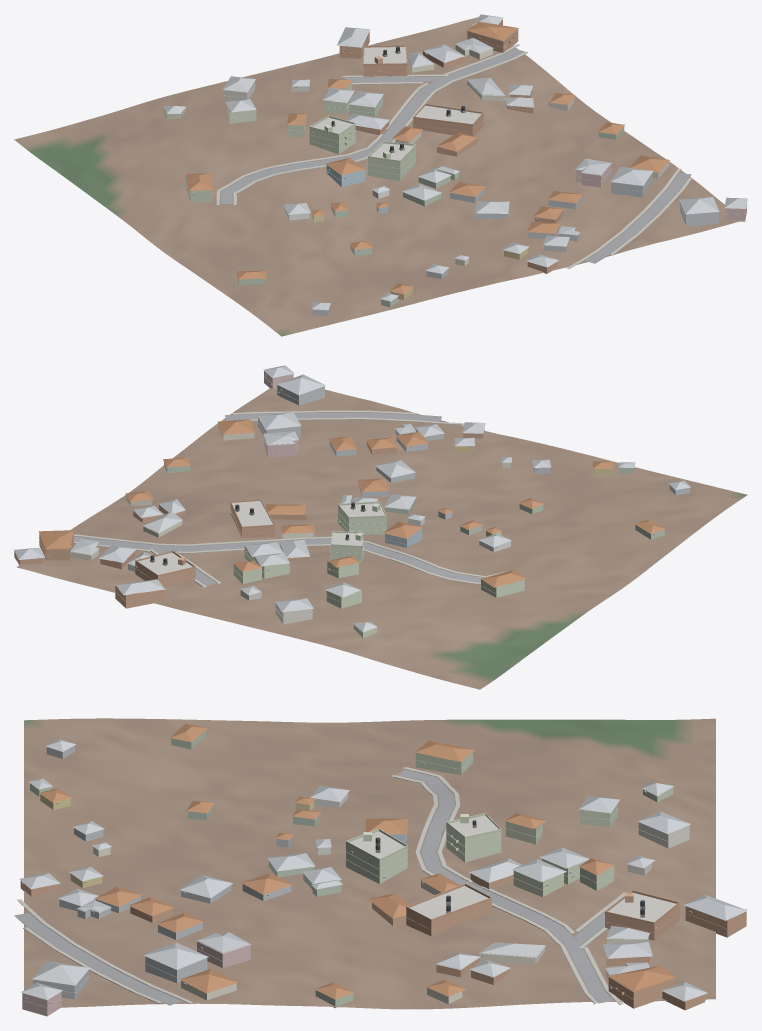
3 renders of one model, top to bottom at view 1: azimuth 30°, elevation 25°; view 2: azimuth 150°, elevation 25°; view 3: azimuth 270°, elevation 25°, orthographic. The views are drawn at different scales.
Visible parts, largest first — view 1: Terrain-col, Buildings-col, Roads-col, Sidewalks-col, Details; view 2: Terrain-col, Buildings-col, Roads-col, Sidewalks-col, Details; view 3: Terrain-col, Buildings-col, Roads-col, Sidewalks-col, Details.
Boxes of the visible parts, <box> form: Terrain-col: <box>14,17,741,336</box>; Buildings-col: <box>163,14,747,315</box>; Roads-col: <box>220,48,691,263</box>; Sidewalks-col: <box>216,44,691,268</box>; Details: <box>180,34,747,311</box>; Terrain-col: <box>16,387,747,689</box>; Buildings-col: <box>14,365,690,637</box>; Roads-col: <box>73,412,484,585</box>; Sidewalks-col: <box>73,410,507,587</box>; Details: <box>39,374,654,618</box>; Terrain-col: <box>24,718,715,1009</box>; Buildings-col: <box>19,723,747,1016</box>; Roads-col: <box>14,769,614,1005</box>; Sidewalks-col: <box>17,767,627,1004</box>; Details: <box>21,757,746,1007</box>.
Size of the model in its own units: 264 by 18.24 by 272.
